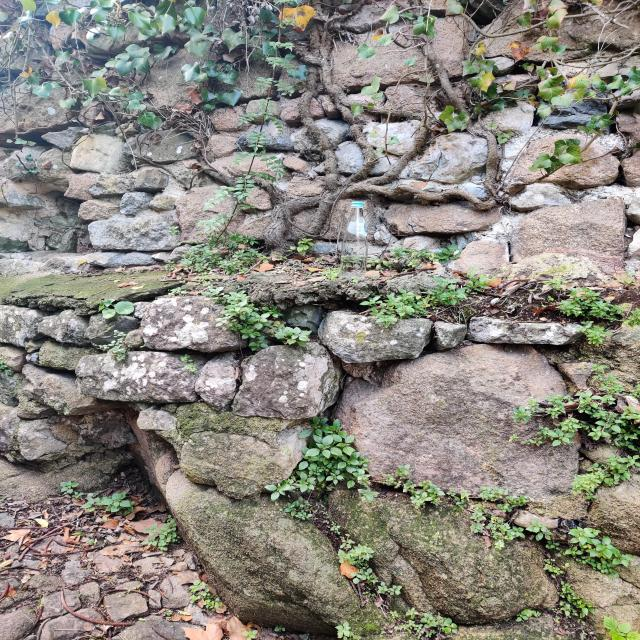litter: (341, 201, 367, 278)
